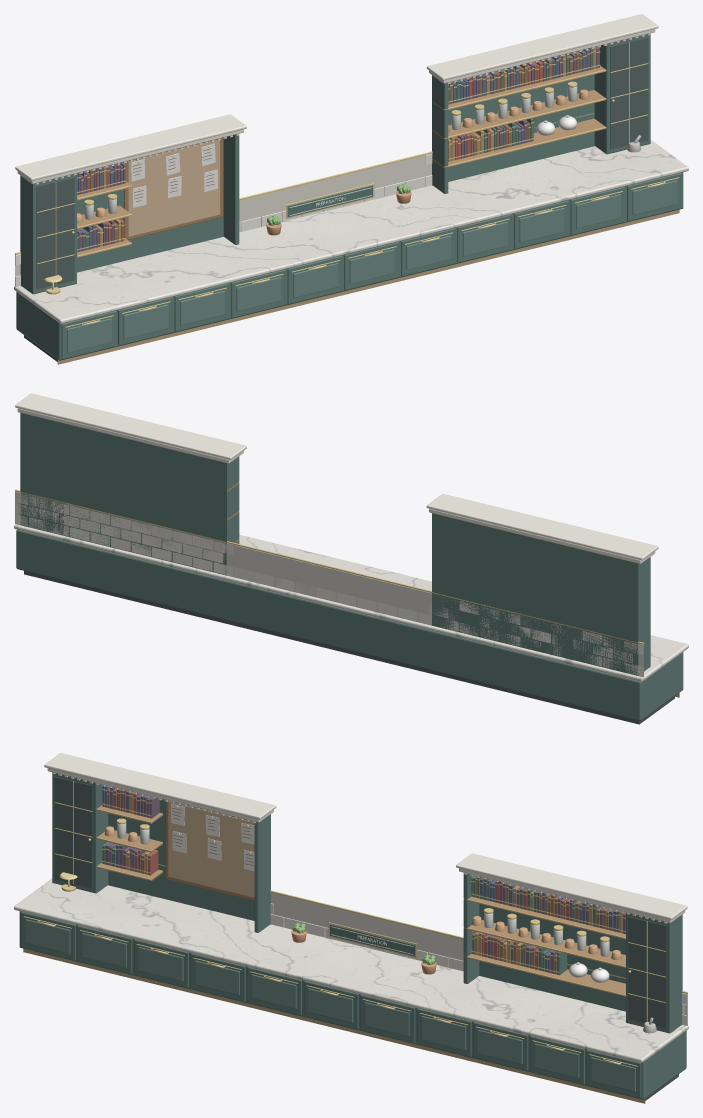
File: prep.glb
The picture shows the model from 3 angles, top to bottom: view 1: azimuth 30°, elevation 25°; view 2: azimuth 150°, elevation 25°; view 3: azimuth 330°, elevation 25°; orthographic projection.
Visible parts, largest first — view 1: prep_carrara_back, prep_green_lacquer, prep_green_lacquer_panel, prep_ivory_cornice, prep, prep_cabinet_glass, prep_cork, prep_brass, prep_oak_shelf, prep_splash_grout, prep_bronze, prep_recipe_card (+6 smaller); view 2: prep_green_lacquer, prep, prep_ivory_cornice, prep_splash_grout, prep_carrara_back, prep_plinth, prep_brass; view 3: prep_carrara_back, prep_green_lacquer, prep_green_lacquer_panel, prep_ivory_cornice, prep, prep_cabinet_glass, prep_cork, prep_brass, prep_oak_shelf, prep_splash_grout, prep_bronze, prep_recipe_card (+6 smaller).
Boxes of the visible parts, box(x1,y1,x2,y2) form: prep_carrara_back: box(14, 140, 688, 323); prep_green_lacquer: box(16, 34, 683, 360); prep_green_lacquer_panel: box(67, 180, 677, 352); prep_ivory_cornice: box(15, 14, 658, 184); prep: box(15, 46, 599, 286); prep_cabinet_glass: box(36, 37, 648, 289); prep_cork: box(128, 140, 219, 236); prep_brass: box(15, 42, 679, 327); prep_oak_shelf: box(77, 65, 605, 257); prep_splash_grout: box(15, 155, 431, 286); prep_bronze: box(57, 209, 679, 364); prep_recipe_card: box(131, 143, 217, 207); prep_green_lacquer: box(16, 413, 683, 720); prep: box(15, 493, 643, 676); prep_ivory_cornice: box(15, 393, 658, 563); prep_splash_grout: box(15, 491, 643, 677); prep_carrara_back: box(14, 524, 688, 681); prep_plinth: box(24, 571, 674, 724); prep_brass: box(15, 481, 644, 644); prep_carrara_back: box(14, 879, 688, 1062); prep_green_lacquer: box(19, 773, 686, 1099); prep_green_lacquer_panel: box(25, 919, 635, 1091); prep_ivory_cornice: box(44, 753, 687, 923); prep: box(102, 785, 687, 1025); prep_cabinet_glass: box(54, 776, 666, 1028); prep_cork: box(168, 801, 254, 897); prep_brass: box(23, 781, 687, 1066); prep_oak_shelf: box(97, 805, 625, 996); prep_splash_grout: box(271, 892, 687, 1025); prep_bronze: box(23, 948, 645, 1103); prep_recipe_card: box(171, 804, 254, 871).
Size of the model in its own units: 9.2 by 2.38 by 1.2.
Materials: 37 (1 with a texture image).
